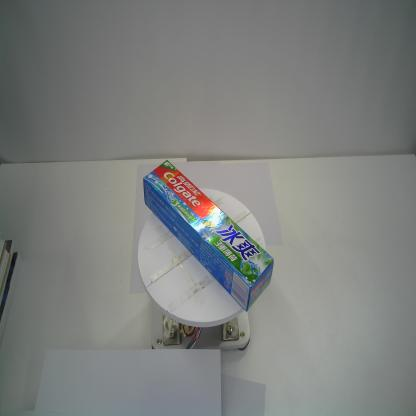Personal Hygiene: (142, 158, 273, 311)
